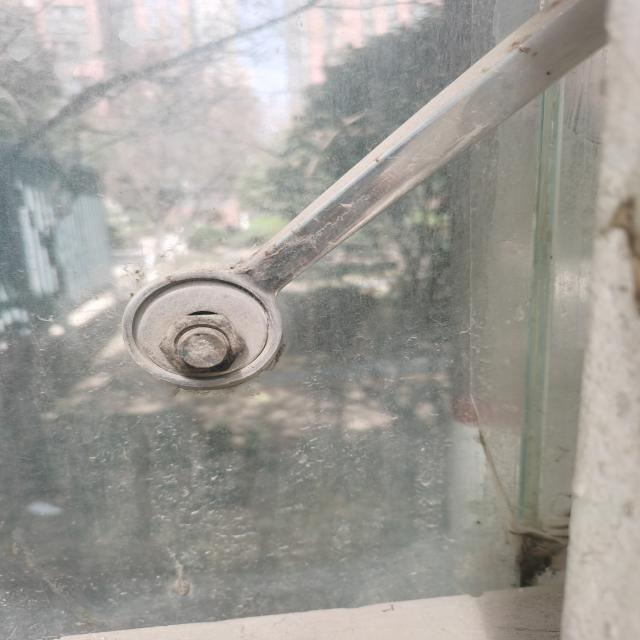bolt nut: (157, 313, 248, 377)
